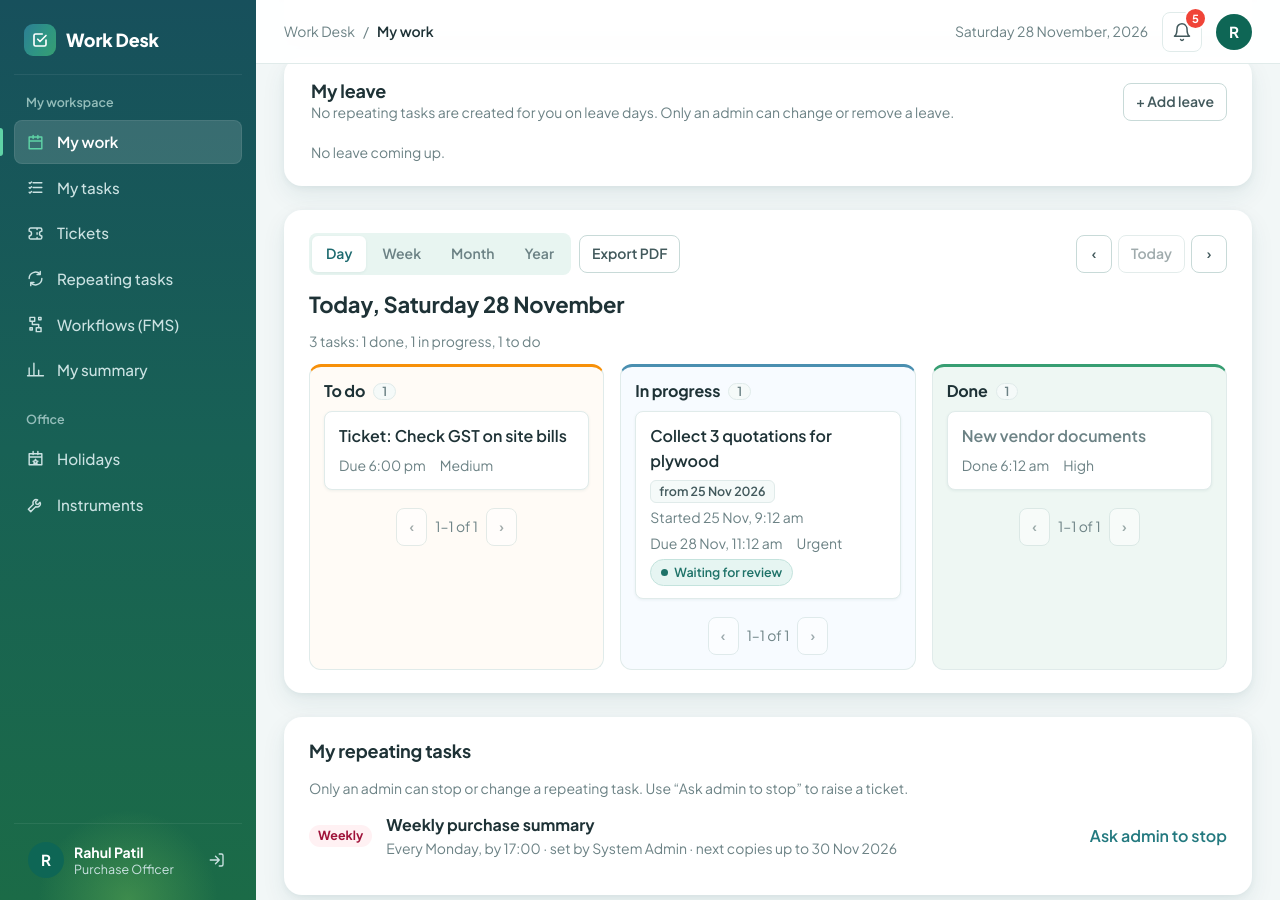
Test case: today view carries over unfinished work › a ticket raised to me opens on the Tickets page, ready to work on, not as a task
(page scrolled)
Expected: the element with class "day-cols" is shown, [309,364,1227,670]
Click the button "Ticket: Check GST on site bills" at {"x": 453, "y": 436}, box [324,411,589,490]
(page scrolled)
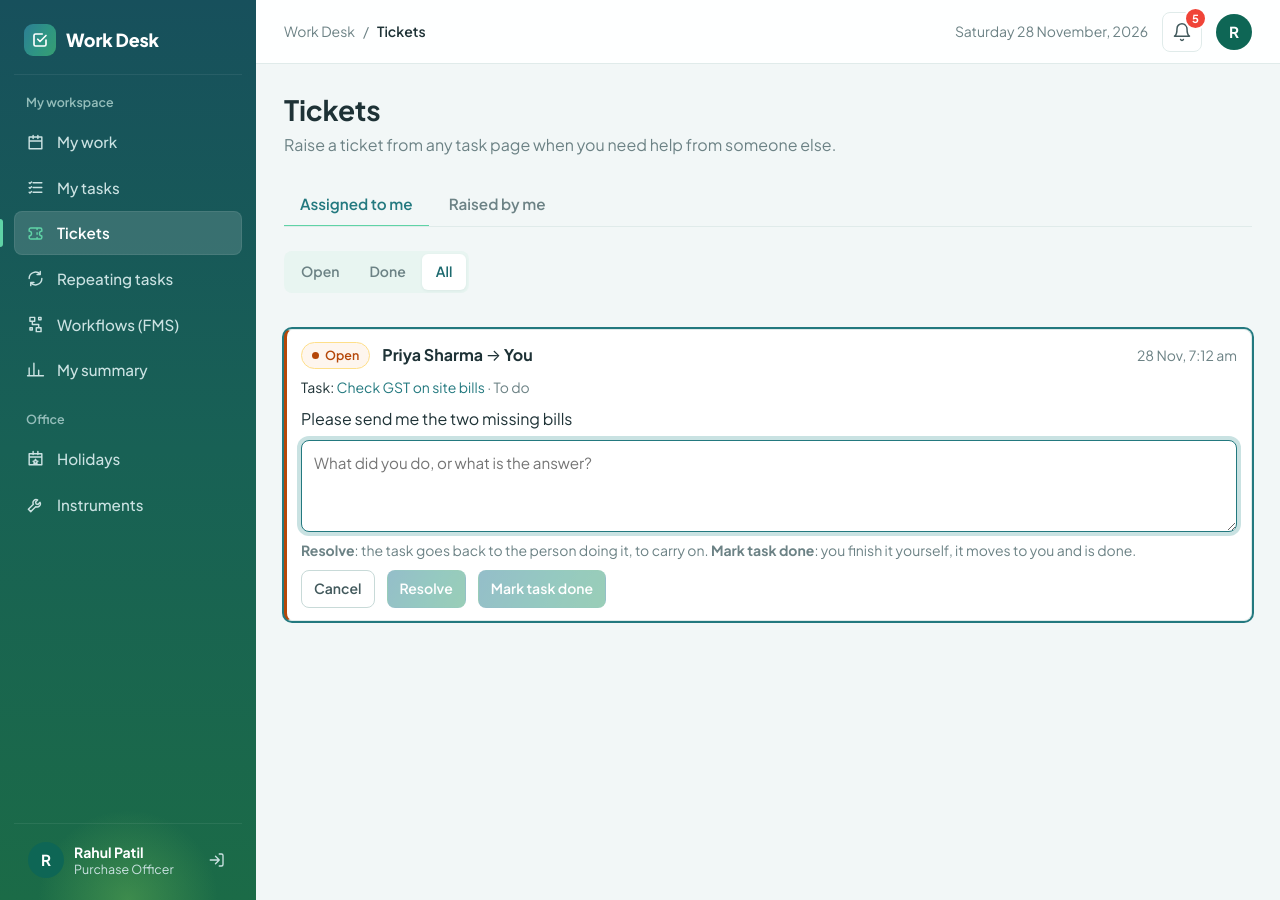
Expected: the heading "Tickets" is shown, [284,92,380,127]
Expected: the list item with class "ticket-focus" is shown, [284,329,1252,621]
Expected: the list item with class "ticket-focus" shows "Please send me the two missing bills", [301,408,572,429]
